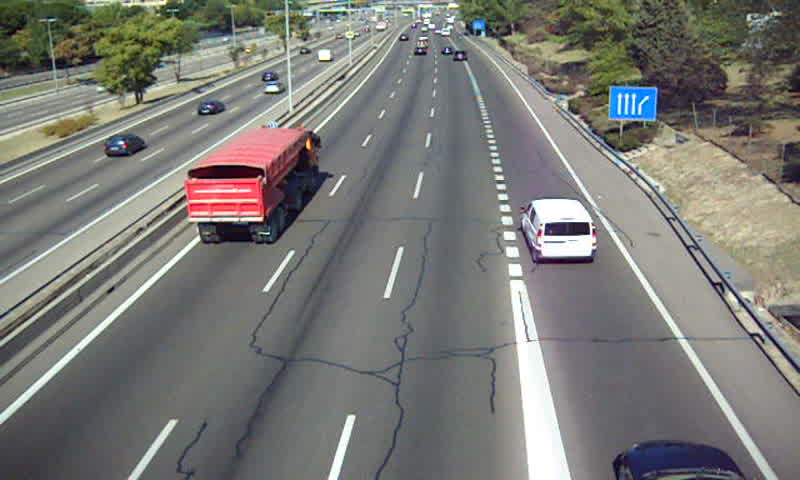truck: (186, 127, 320, 244)
van: (519, 199, 595, 261)
